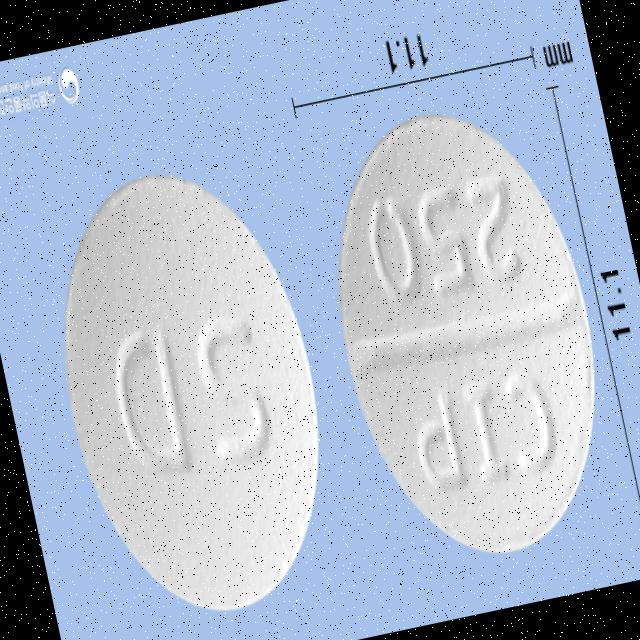Wooridul Ciprofloxacin Tab: (300, 89, 634, 578), (24, 149, 357, 636)
